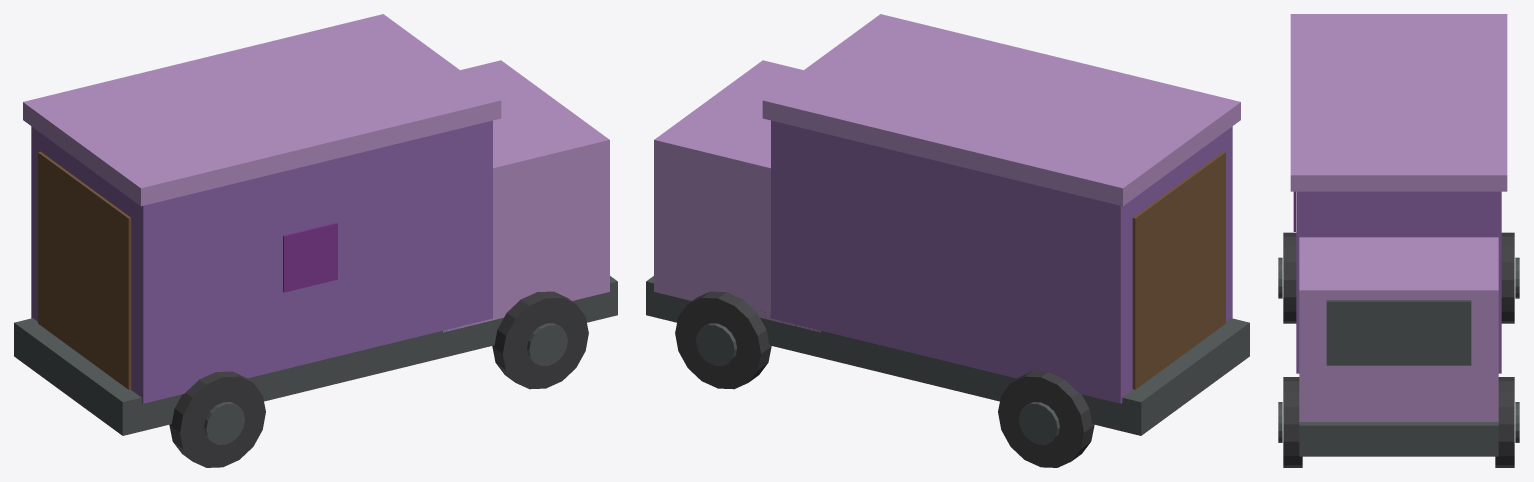
File: delivery_truck.glb
3 views of the same model, side by side, from view 1: azimuth 30°, elevation 25°; view 2: azimuth 150°, elevation 25°; view 3: azimuth 270°, elevation 25° (orthographic). The views are drawn at different scales.
Visible parts, largest first — view 1: Cargo box, Cargo roof, Cab, Cargo rear opening, Truck chassis, Truck wheel.002, Truck wheel, Purple grape emblem, Wheel hub.002, Wheel hub; view 2: Cargo box, Cargo roof, Cab, Cargo rear opening, Truck chassis, Truck wheel.003, Truck wheel.001, Wheel hub.003, Wheel hub.001; view 3: Cargo roof, Cab, Cargo box, Front windshield, Truck chassis, Truck wheel.002, Truck wheel.003, Truck wheel, Truck wheel.001.
Part boxes in pixels (bbox=[...]): Cargo box: bbox=[31, 120, 492, 403]; Cargo roof: bbox=[23, 14, 501, 206]; Cab: bbox=[443, 60, 609, 332]; Cargo rear opening: bbox=[38, 151, 131, 389]; Truck chassis: bbox=[14, 276, 617, 435]; Truck wheel.002: bbox=[492, 291, 588, 389]; Truck wheel: bbox=[169, 371, 265, 467]; Purple grape emblem: bbox=[283, 222, 337, 292]; Wheel hub.002: bbox=[527, 323, 567, 365]; Wheel hub: bbox=[204, 402, 244, 444]; Cargo box: bbox=[771, 120, 1232, 403]; Cargo roof: bbox=[762, 14, 1240, 206]; Cab: bbox=[654, 60, 820, 332]; Cargo rear opening: bbox=[1132, 151, 1225, 389]; Truck chassis: bbox=[646, 276, 1249, 435]; Truck wheel.003: bbox=[675, 291, 771, 389]; Truck wheel.001: bbox=[998, 371, 1094, 467]; Wheel hub.003: bbox=[696, 323, 736, 365]; Wheel hub.001: bbox=[1019, 402, 1059, 444]; Cargo roof: bbox=[1290, 14, 1507, 191]; Cab: bbox=[1299, 237, 1498, 421]; Cargo box: bbox=[1296, 191, 1501, 373]; Front windshield: bbox=[1326, 300, 1471, 365]; Truck chassis: bbox=[1299, 422, 1498, 456]; Truck wheel.002: bbox=[1283, 377, 1302, 467]; Truck wheel.003: bbox=[1495, 377, 1514, 467]; Truck wheel: bbox=[1283, 232, 1296, 323]; Truck wheel.001: bbox=[1501, 232, 1514, 323].
Bounding box in the file's own units: 4.6 × 2.62 × 2.12.
